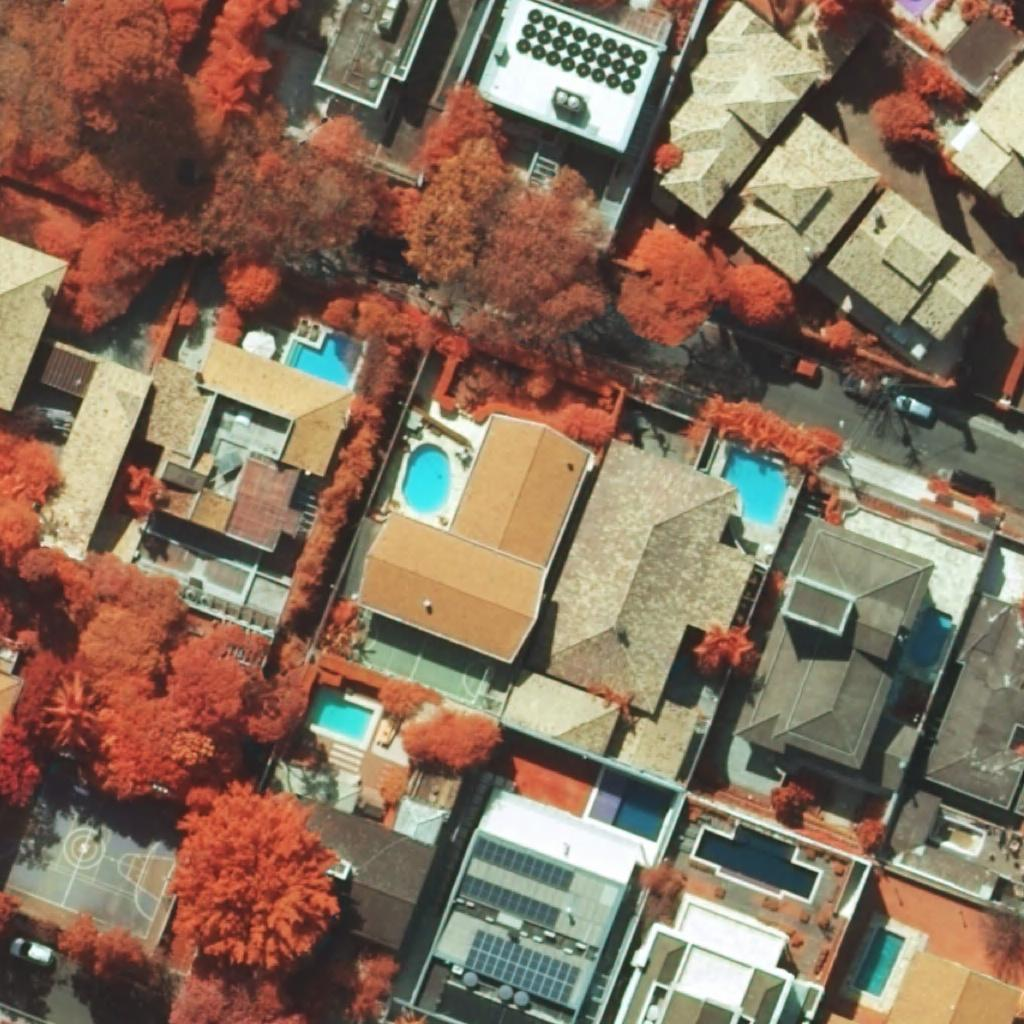pool: (694, 824, 819, 900), (587, 769, 673, 843), (719, 447, 790, 527), (284, 333, 361, 387), (853, 927, 906, 998), (309, 688, 374, 743), (402, 442, 450, 515), (908, 606, 953, 668)
